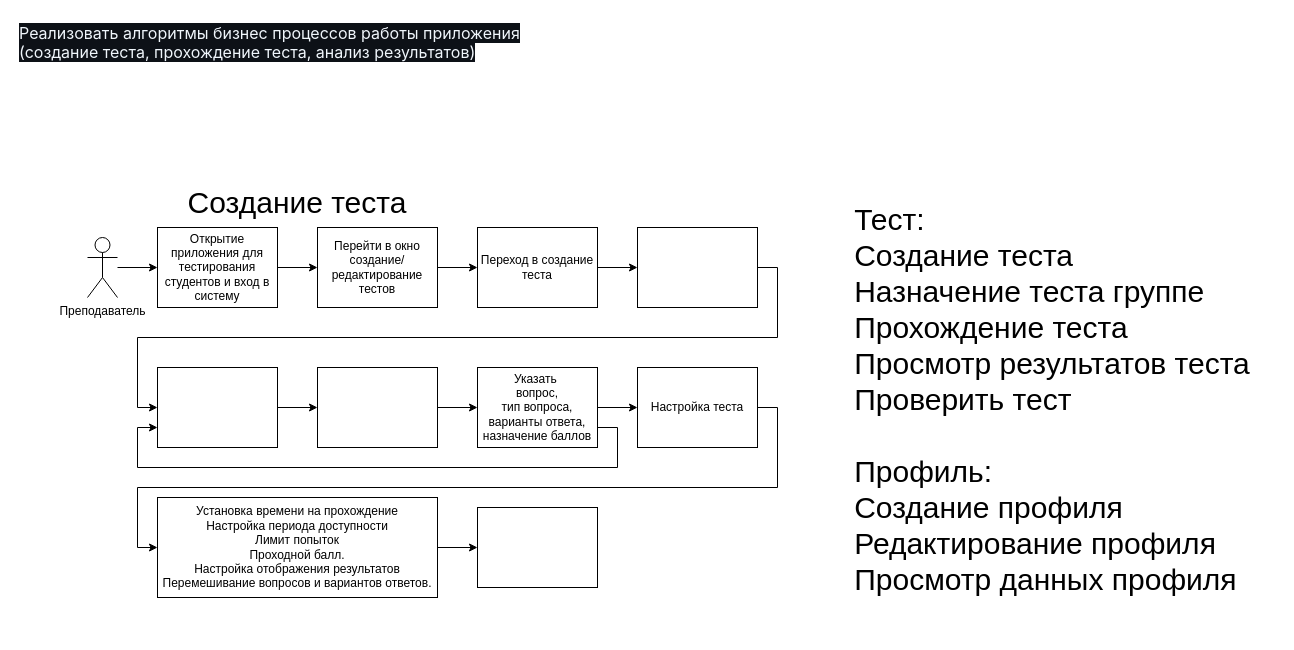
Some shapes in this 1294 by 650 pixel diagram are drawn without their labels. The centre of each missing label's shape, as x and y in pixels:
Добавить вопрос: the point at 217,407
Редактировать вопрос: the point at 377,407
Сохранение теста: the point at 537,547
Установка наименования и описания теста: the point at 697,267
